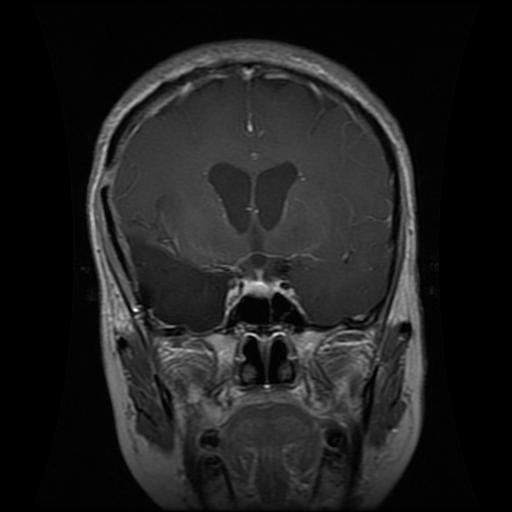Gliomia_tumour: (125, 225, 237, 329)
